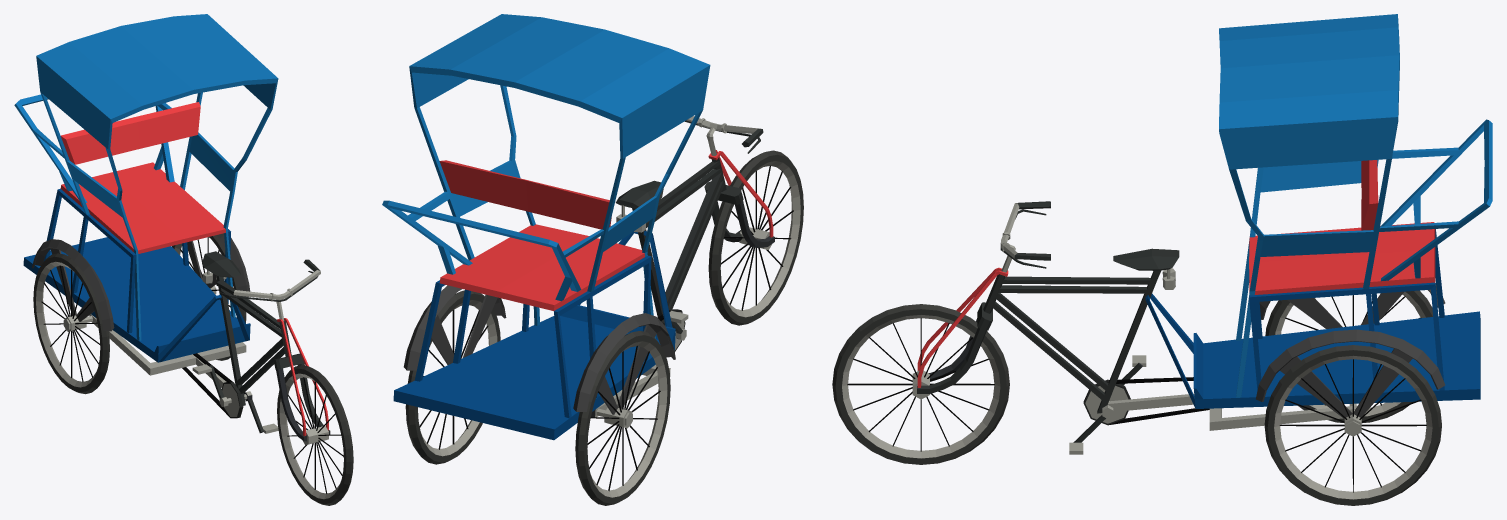
Rendered from delh_prop_04.fbx.
The picture shows the model from 3 angles, left to right: view 1: azimuth 30°, elevation 25°; view 2: azimuth 150°, elevation 25°; view 3: azimuth 270°, elevation 25°; orthographic projection. The views are drawn at different scales.
Visible parts, largest first — view 1: delh_prop_04; view 2: delh_prop_04; view 3: delh_prop_04.
Part boxes in pixels (x1,y1,x2,y2): delh_prop_04: (14, 14, 353, 505); delh_prop_04: (382, 14, 803, 505); delh_prop_04: (832, 14, 1492, 505).
Bounding box in the file's own units: 113 × 209 × 305.
